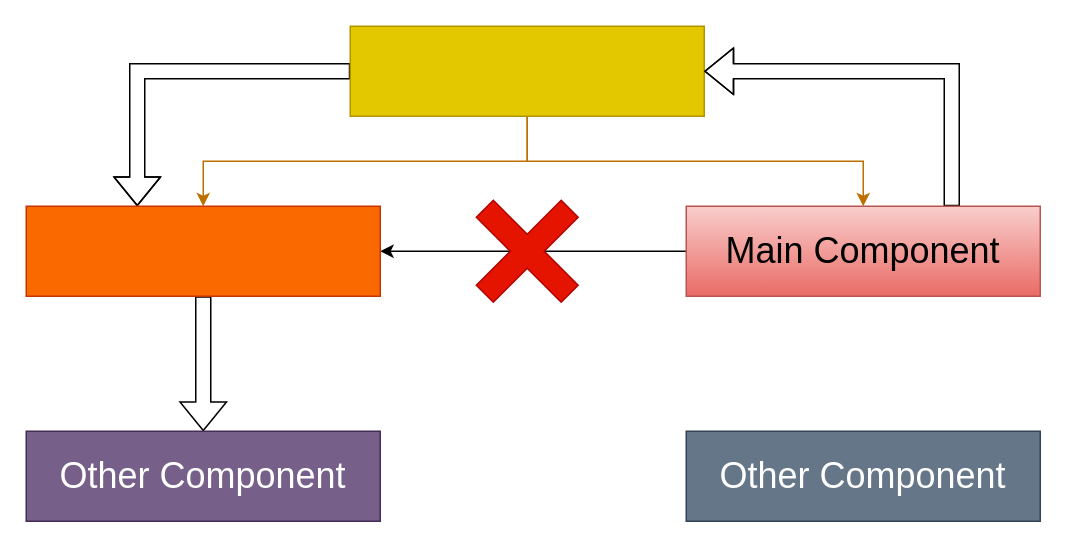
The diagram is 1067 pixels wide and 548 high, and some of its shapes have lost their labels. Here are the shapes that lost their labels. From the top down, the centre of each, then its label:
the point at 526,70: App Component
the point at 202,250: User Component
